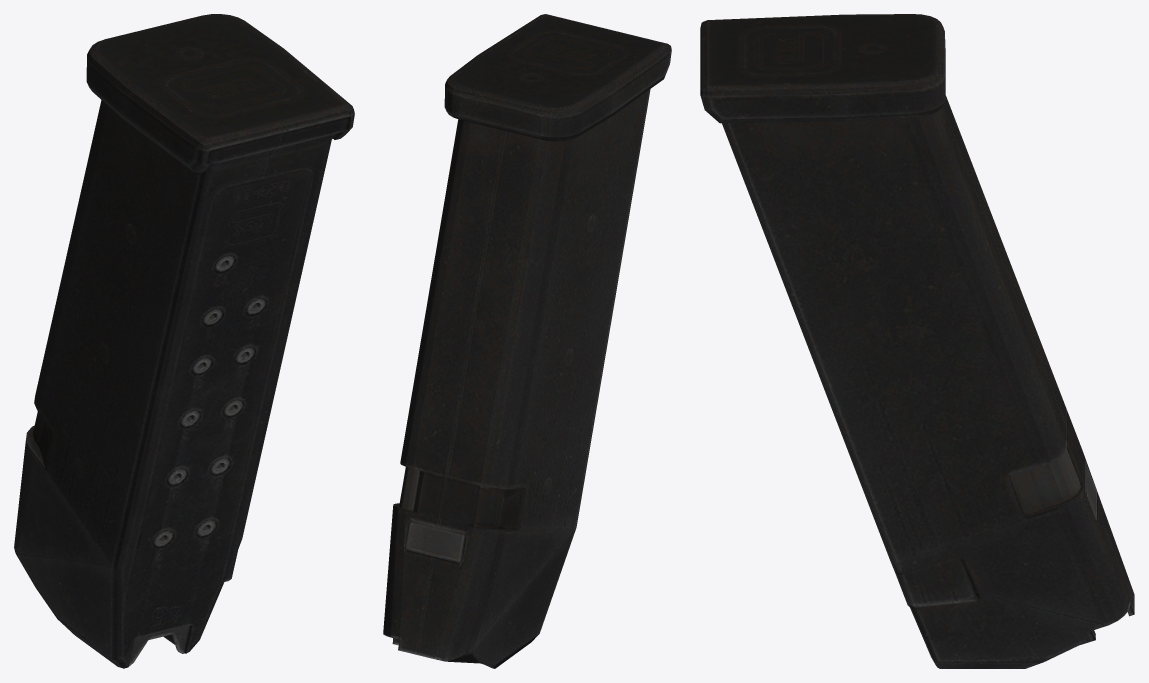
3 views of the same model, side by side, from view 1: azimuth 30°, elevation 25°; view 2: azimuth 150°, elevation 25°; view 3: azimuth 270°, elevation 25° (orthographic). The views are drawn at different scales.
Parts seen in each view (by area): view 1: TW_5fb651b52b1b027b1f50bcff_PZ_Import; view 2: TW_5fb651b52b1b027b1f50bcff_PZ_Import; view 3: TW_5fb651b52b1b027b1f50bcff_PZ_Import.
Part boxes in pixels (bbox=[...]): TW_5fb651b52b1b027b1f50bcff_PZ_Import: bbox=[14, 14, 354, 668]; TW_5fb651b52b1b027b1f50bcff_PZ_Import: bbox=[383, 14, 671, 668]; TW_5fb651b52b1b027b1f50bcff_PZ_Import: bbox=[700, 14, 1134, 668].
Size of the model in its own units: 0.0178 by 0.043 by 0.0663.
Materials: 1 (1 with a texture image).
